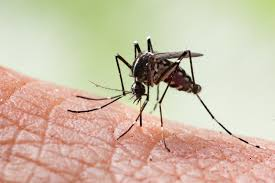mosquito: (76, 33, 263, 156)
